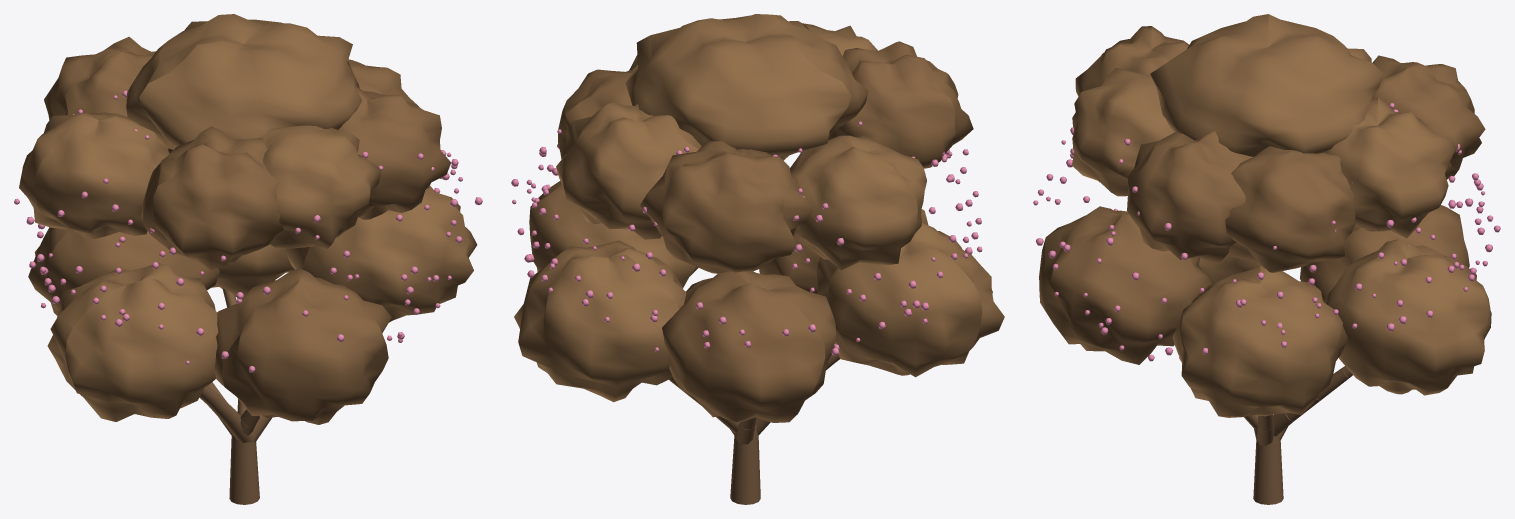
Rendered from kanzan-tavasz.glb.
The picture shows the model from 3 angles, left to right: view 1: azimuth 30°, elevation 25°; view 2: azimuth 150°, elevation 25°; view 3: azimuth 270°, elevation 25°; orthographic projection.
Parts seen in each view (by area): view 1: korona-teto, korona-3, korona-2, korona-gyuru-3, korona-gyuru-4, korona-1, korona-gyuru-2, korona-gyuru-1, korona-4, korona-gyuru-5, virag, korona-5 (+2 smaller); view 2: korona-teto, korona-4, korona-5, korona-3, korona-gyuru-5, korona-gyuru-4, korona-gyuru-6, korona-gyuru-3, korona-1, virag, korona-gyuru-7, torzs (+2 smaller); view 3: korona-teto, korona-1, korona-5, korona-2, korona-gyuru-7, korona-gyuru-1, korona-gyuru-6, korona-gyuru-2, korona-gyuru-5, korona-4, virag, korona-gyuru-3 (+2 smaller).
Boxes of the visible parts, x1,y1,x2,y2 form: korona-teto: [126, 14, 361, 149]; korona-3: [47, 262, 218, 421]; korona-2: [214, 269, 391, 424]; korona-gyuru-3: [141, 126, 283, 270]; korona-gyuru-4: [19, 112, 169, 238]; korona-1: [285, 186, 477, 322]; korona-gyuru-2: [257, 125, 381, 248]; korona-gyuru-1: [339, 87, 451, 219]; korona-4: [28, 227, 219, 315]; korona-gyuru-5: [44, 36, 172, 153]; virag: [14, 90, 482, 372]; korona-5: [212, 244, 294, 296]; korona-teto: [625, 14, 868, 160]; korona-4: [662, 271, 836, 422]; korona-5: [514, 240, 686, 402]; korona-3: [816, 223, 1004, 377]; korona-gyuru-5: [640, 140, 813, 274]; korona-gyuru-4: [790, 134, 926, 270]; korona-gyuru-6: [556, 102, 701, 239]; korona-gyuru-3: [828, 41, 973, 168]; korona-1: [529, 181, 698, 287]; virag: [511, 121, 982, 355]; korona-gyuru-7: [558, 68, 634, 159]; torzs: [730, 425, 760, 504]; korona-teto: [1150, 14, 1384, 156]; korona-1: [1172, 266, 1347, 417]; korona-5: [1325, 239, 1491, 395]; korona-2: [1039, 206, 1212, 364]; korona-gyuru-7: [1225, 146, 1355, 272]; korona-gyuru-1: [1127, 131, 1252, 263]; korona-gyuru-6: [1324, 97, 1454, 238]; korona-gyuru-2: [1071, 68, 1174, 196]; korona-gyuru-5: [1372, 55, 1485, 176]; korona-4: [1300, 205, 1469, 302]; virag: [1033, 103, 1500, 361]; korona-gyuru-3: [1075, 26, 1189, 96].
Bounding box in the file's own units: 7.6 × 7.87 × 7.22.
